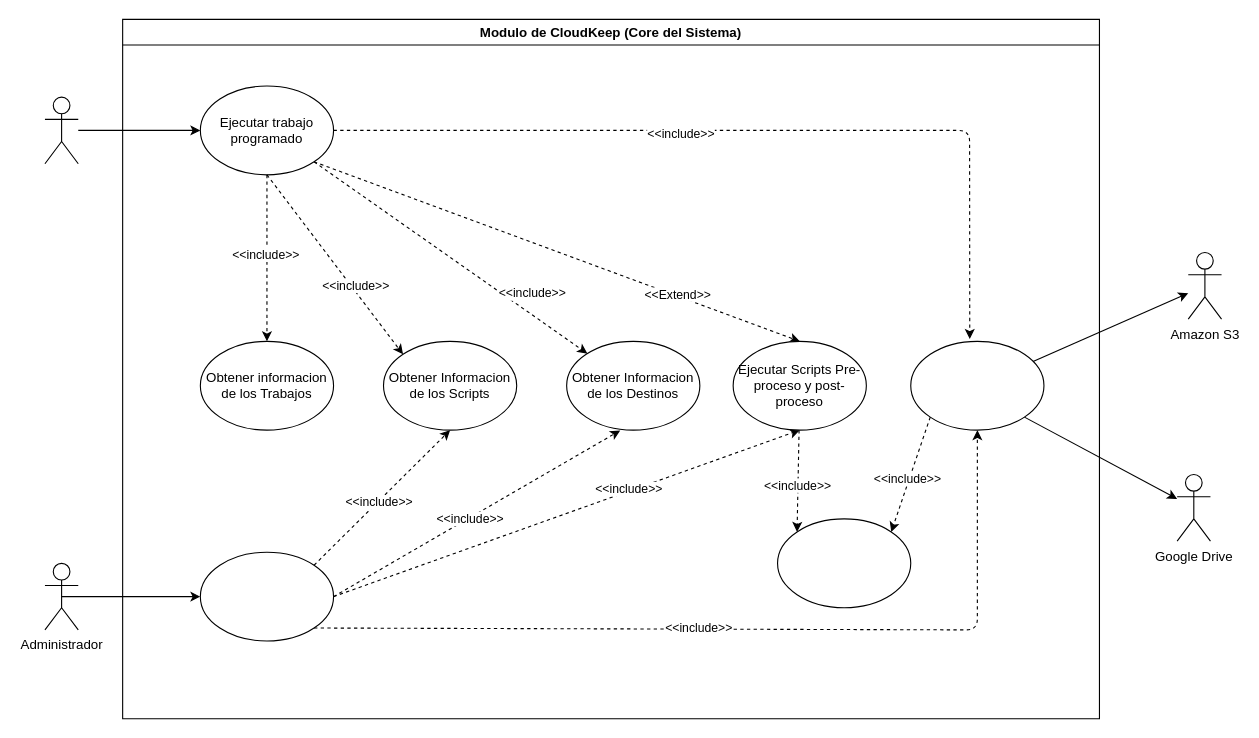
The diagram is 1259 pixels wide and 738 high, and some of its shapes have lost their labels. The box of each missing label's shape, as (x1, y1, x2, y2) in pixels:
Copiar archivo a la nube: (910, 340, 1044, 430)
Ejecutar Trabajo manualmente: (199, 551, 334, 641)
Registrar trazas(logs): (776, 518, 911, 608)
Sistema/Timer: (44, 96, 78, 164)
